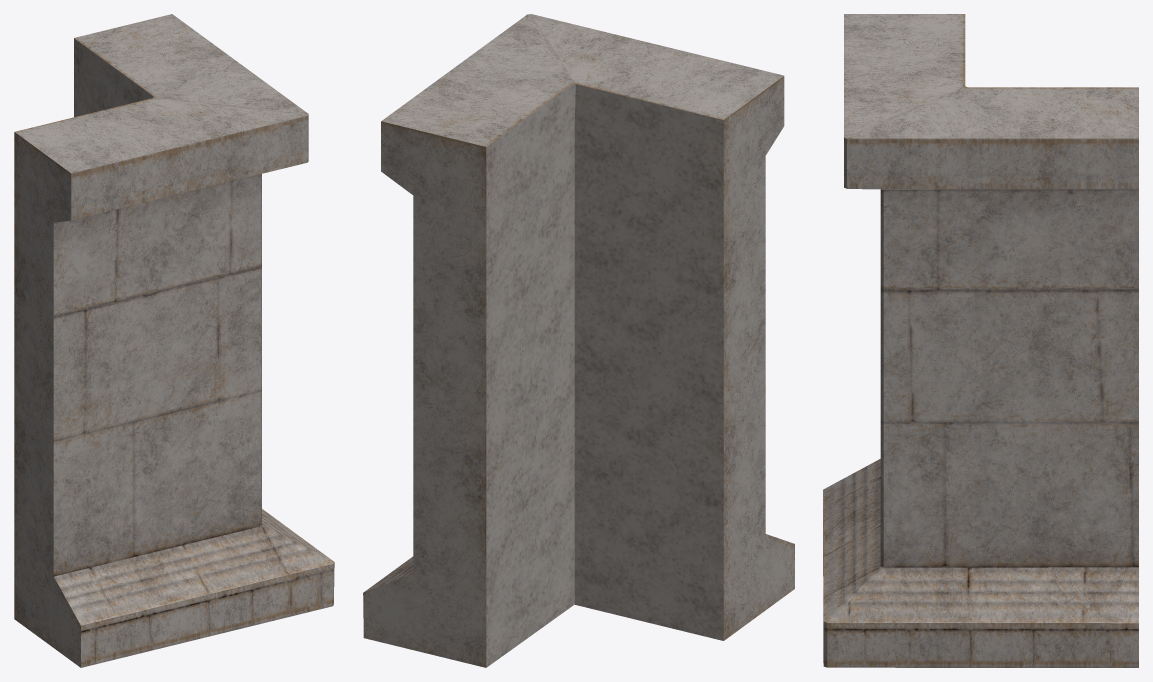
The model's file is StoneWall_Corner.fbx.
3 views of the same model, side by side, from view 1: azimuth 30°, elevation 25°; view 2: azimuth 150°, elevation 25°; view 3: azimuth 270°, elevation 25° (orthographic). The views are drawn at different scales.
Visible parts, largest first — view 1: Wall_Corner.002; view 2: Wall_Corner.002; view 3: Wall_Corner.002.
Boxes of the visible parts, bbox=[...] form: Wall_Corner.002: bbox=[14, 14, 334, 667]; Wall_Corner.002: bbox=[363, 14, 794, 667]; Wall_Corner.002: bbox=[823, 14, 1138, 667].
Size of the model in its own units: 154 by 281 by 154.
